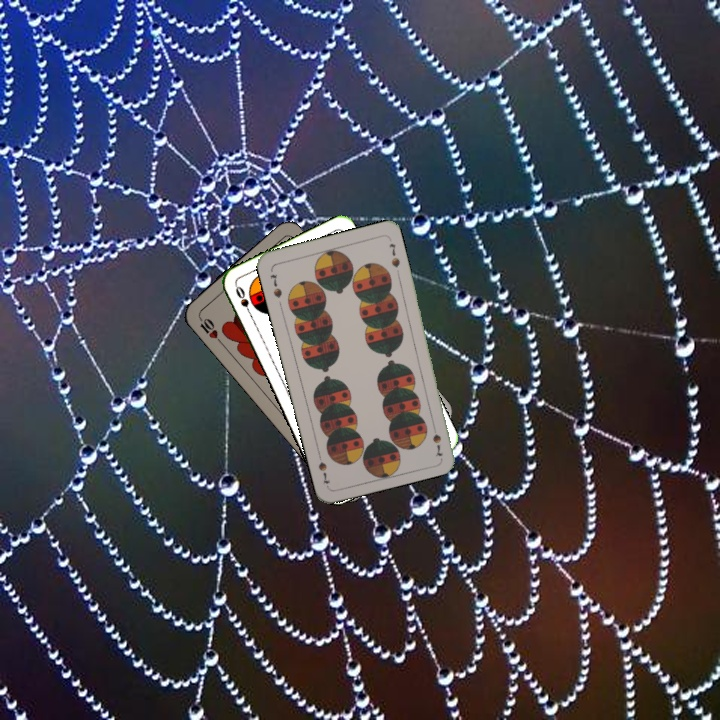H10: (194, 313, 225, 347)
S7: (428, 418, 445, 459), (266, 270, 285, 301)
SO: (231, 282, 255, 320)
